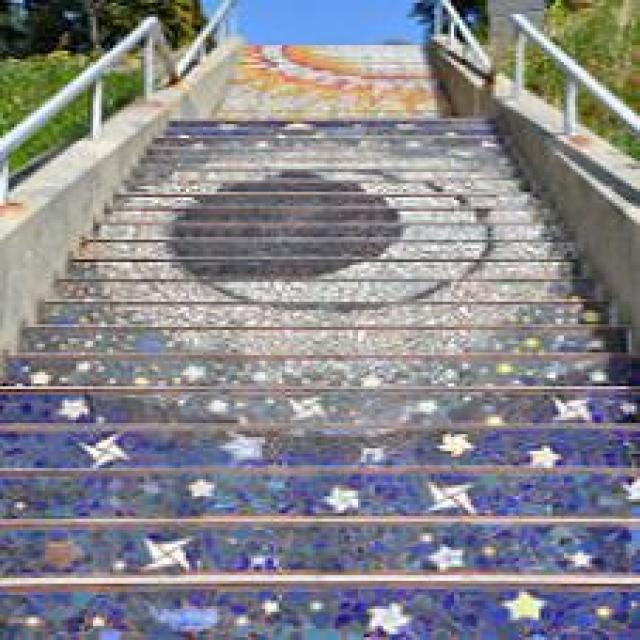upstair: (7, 308, 635, 613)
